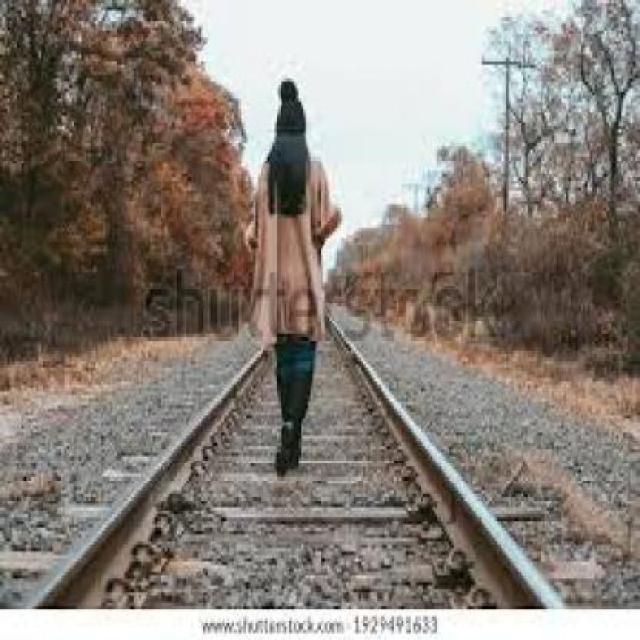danger: (246, 84, 332, 487)
rail: (5, 297, 617, 612)
